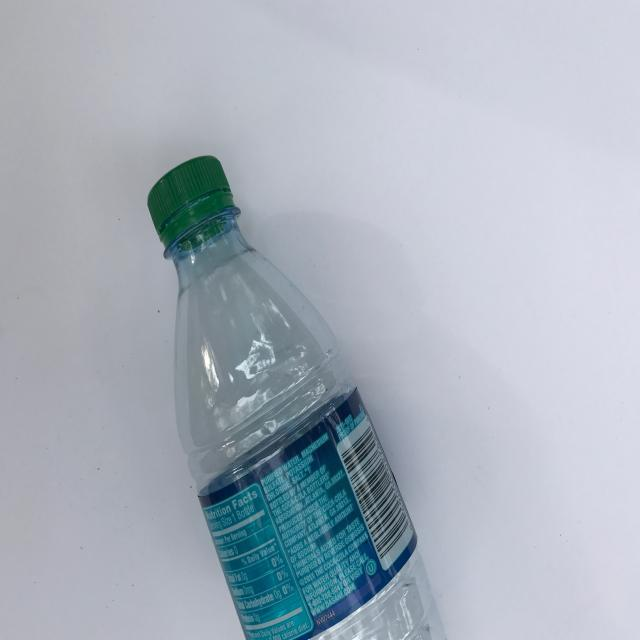plastic: (146, 153, 450, 640)
